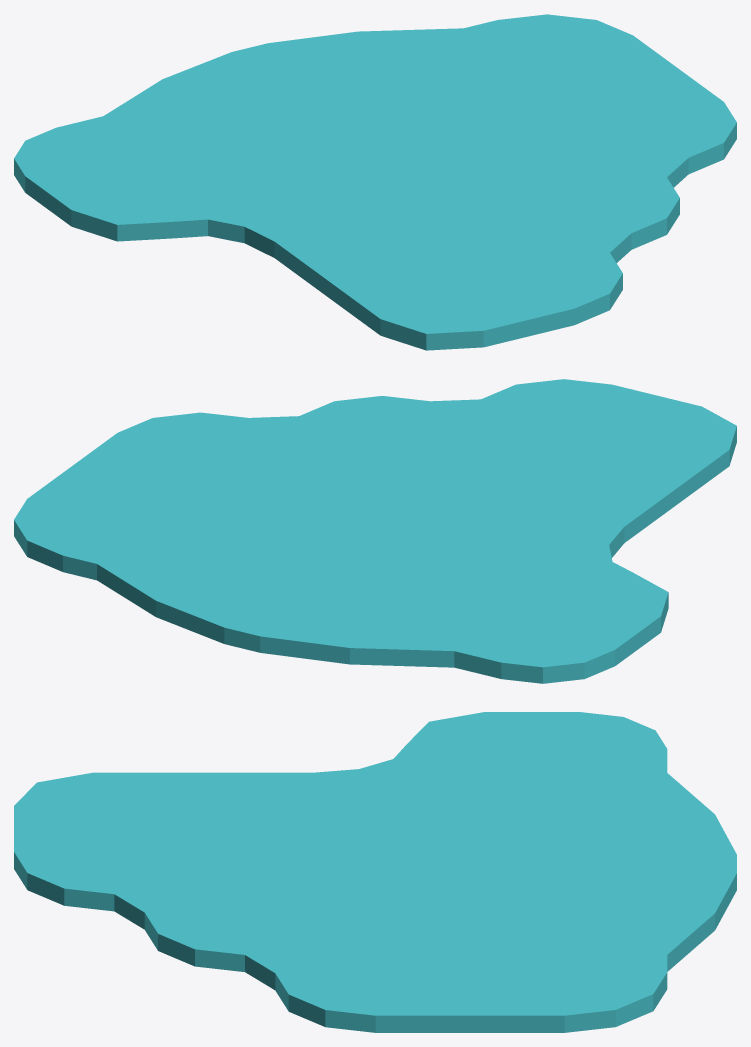
Rendered from ice.fbx.
3 views of the same model, one above another, from view 1: azimuth 30°, elevation 25°; view 2: azimuth 150°, elevation 25°; view 3: azimuth 270°, elevation 25° (orthographic). The views are drawn at different scales.
Visible parts, largest first — view 1: Gelo; view 2: Gelo; view 3: Gelo.
Boxes of the visible parts, x1,y1,x2,y2 form: Gelo: (14,14,736,350); Gelo: (14,379,736,683); Gelo: (14,712,736,1032).
Bounding box in the file's own units: 507 × 13.4 × 510.
